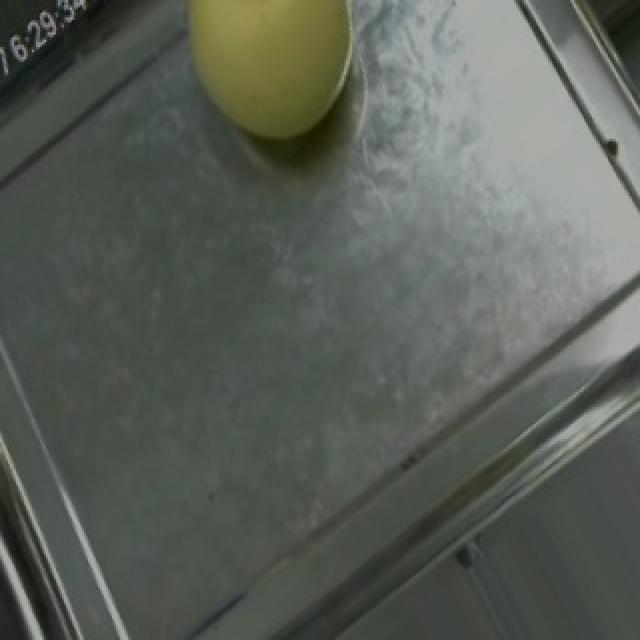Fruit: (144, 0, 394, 174)
